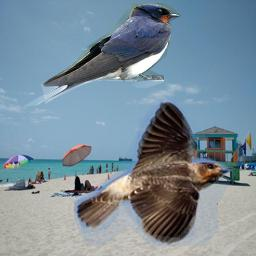Swallow: (74, 99, 235, 246), (25, 3, 181, 111)
